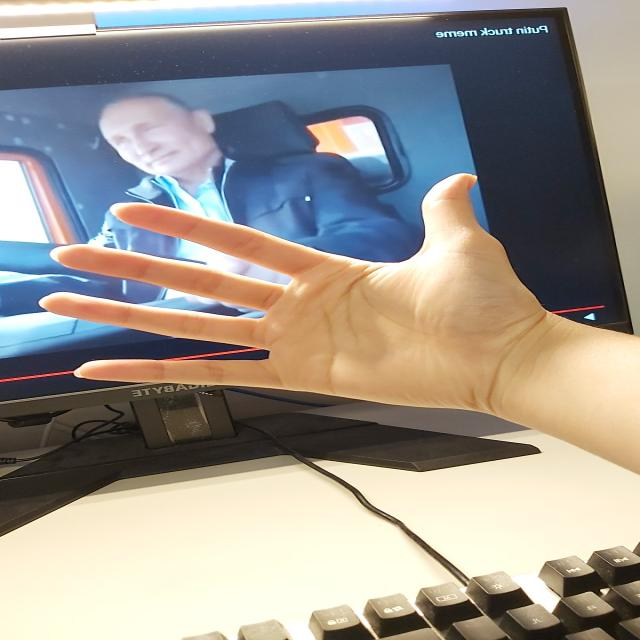no_glove: (36, 159, 582, 421)
